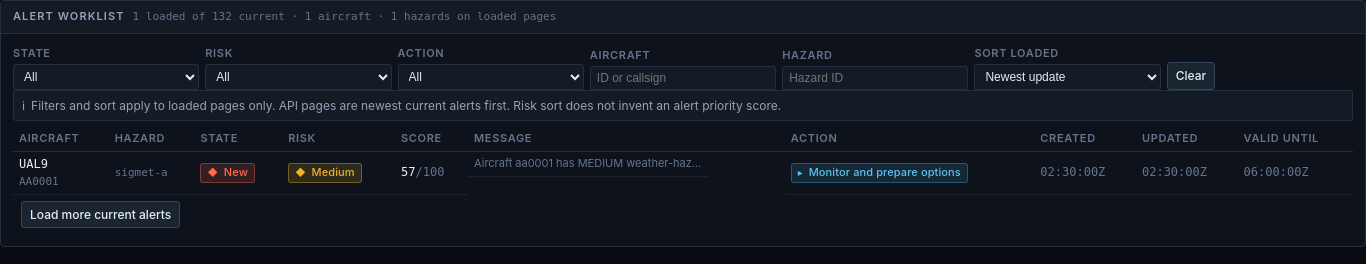
Test: AlertWorklist › walks an opaque nextToken with Load more
Click the button "Load more current alerts" at [101, 214], box [21,200,180,228]
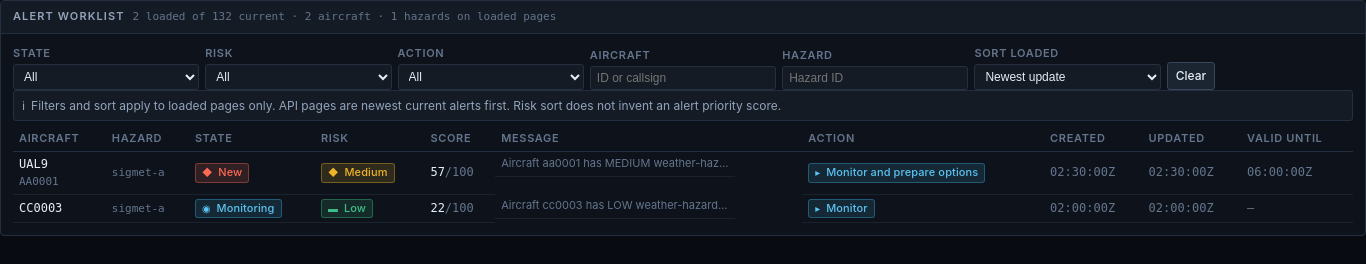
Expected: the text "CC0003" is shown, [19,201,62,215]
